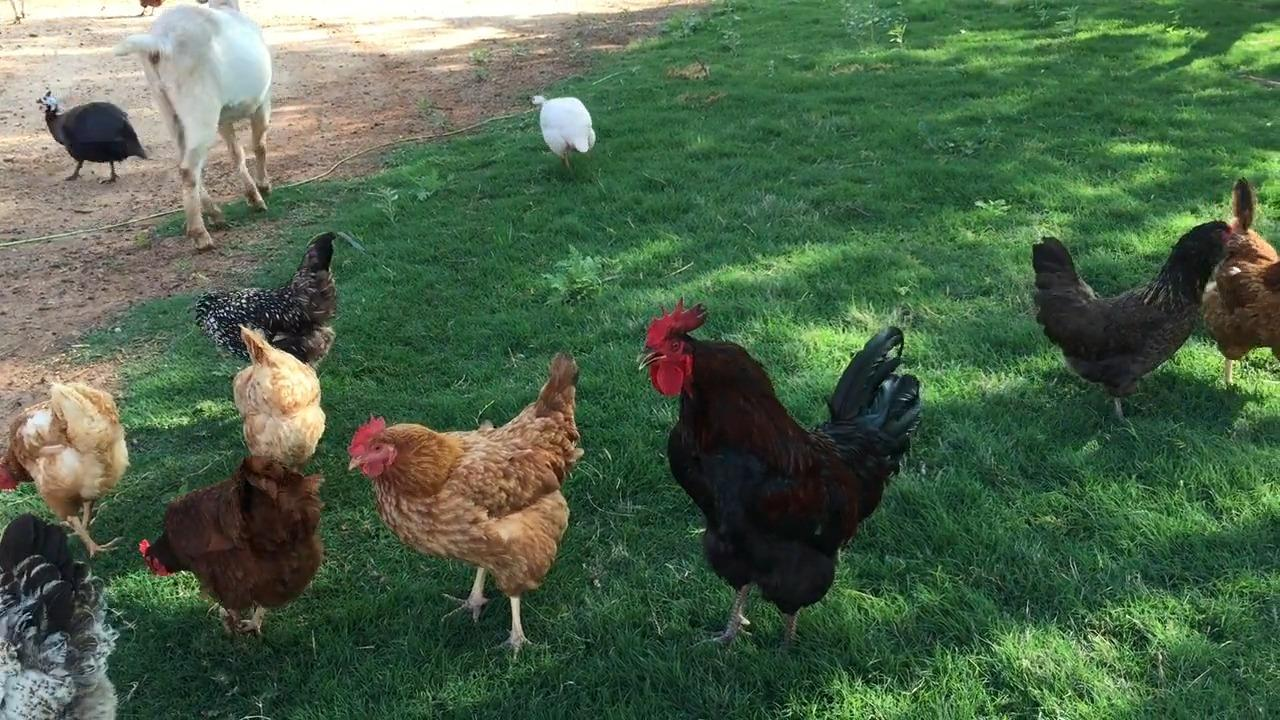Normal: (639, 297, 921, 654), (345, 379, 581, 645), (1036, 222, 1241, 421), (140, 456, 325, 640), (37, 92, 151, 185)
